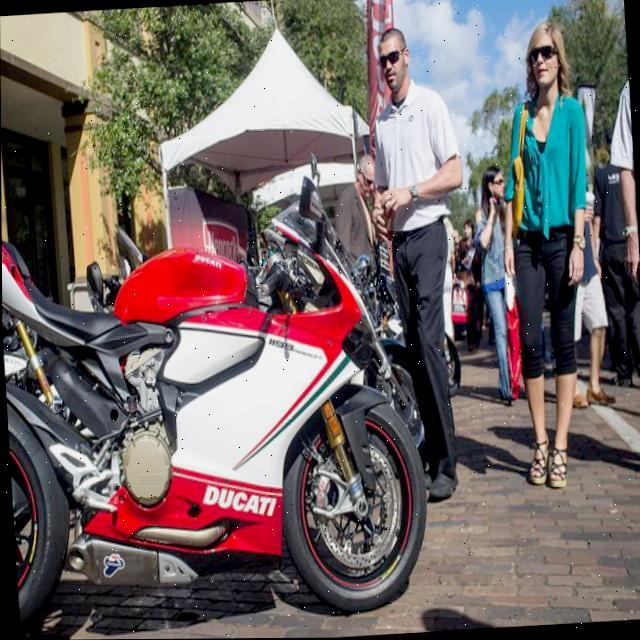motorcycle: (1, 179, 434, 638)
